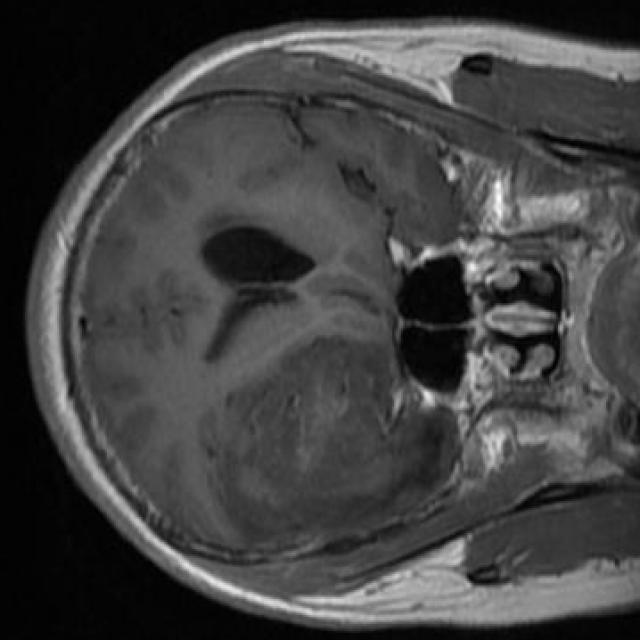glioma: (200, 335, 462, 542)
